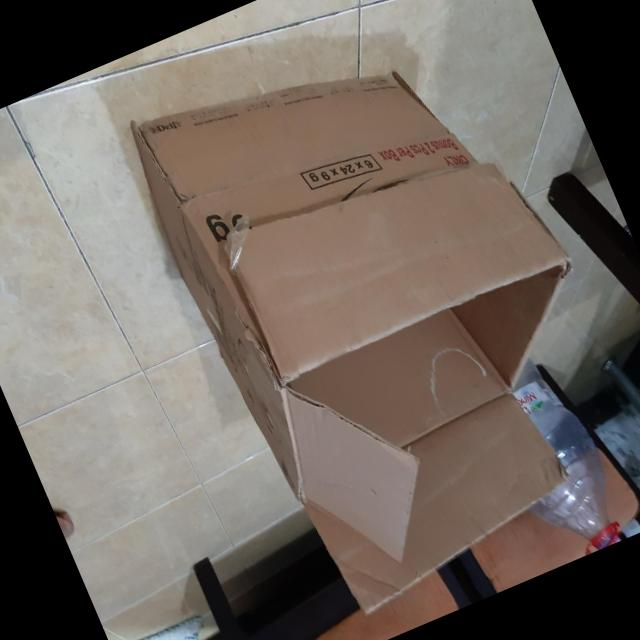Kardus: (116, 0, 640, 632), (113, 612, 217, 640)
